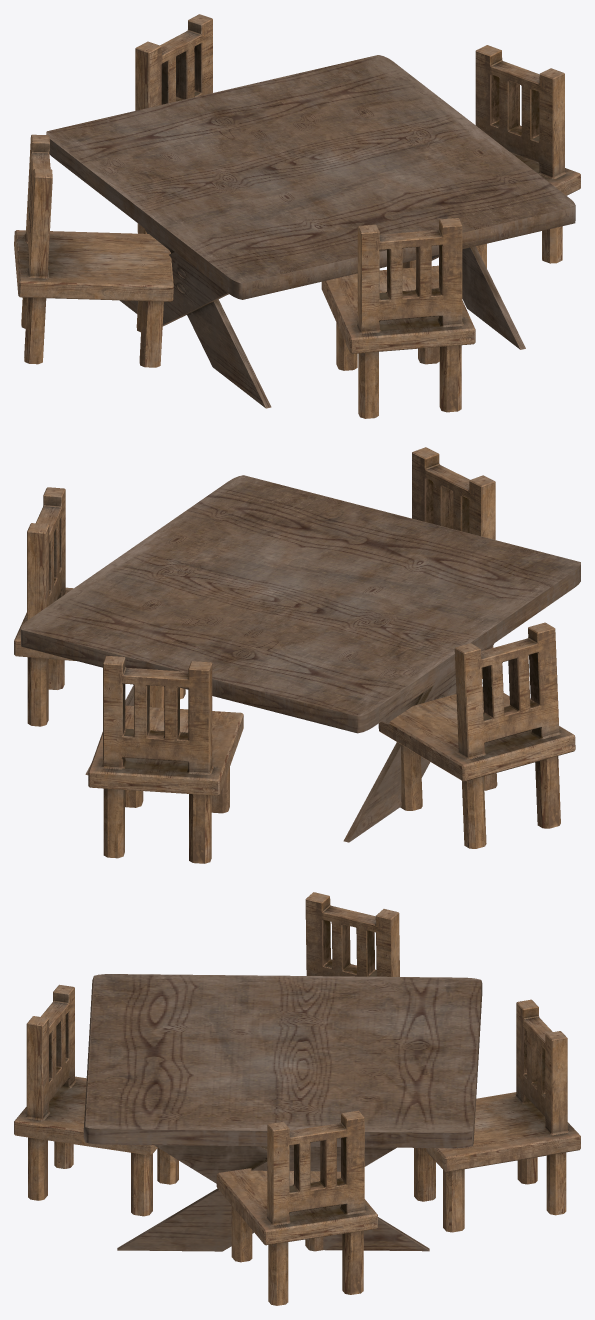
File: Tabble_Set_Short.fbx
The picture shows the model from 3 angles, top to bottom: view 1: azimuth 30°, elevation 25°; view 2: azimuth 150°, elevation 25°; view 3: azimuth 270°, elevation 25°; orthographic projection. The views are drawn at different scales.
Visible parts, largest first — view 1: MainHall_Table_6.006; view 2: MainHall_Table_6.006; view 3: MainHall_Table_6.006.
Boxes of the visible parts, x1,y1,x2,y2 form: MainHall_Table_6.006: (14, 14, 580, 418); MainHall_Table_6.006: (14, 447, 580, 863); MainHall_Table_6.006: (14, 892, 580, 1305).
Size of the model in its own units: 336 by 116 by 325.
